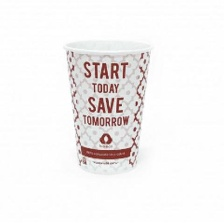paper_cup: (57, 33, 157, 178)
